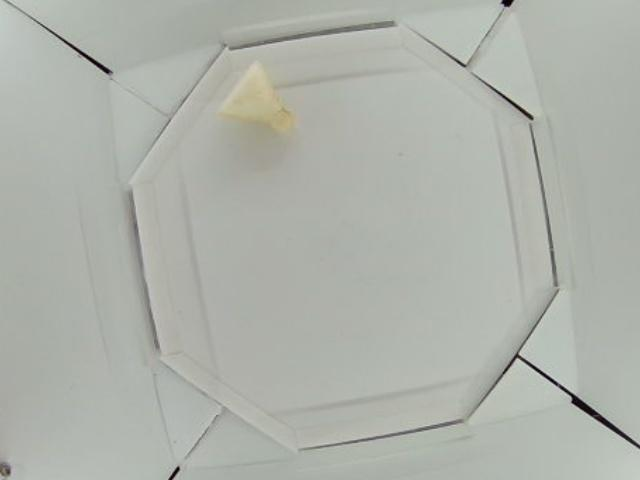Mooli: (219, 62, 295, 133)
